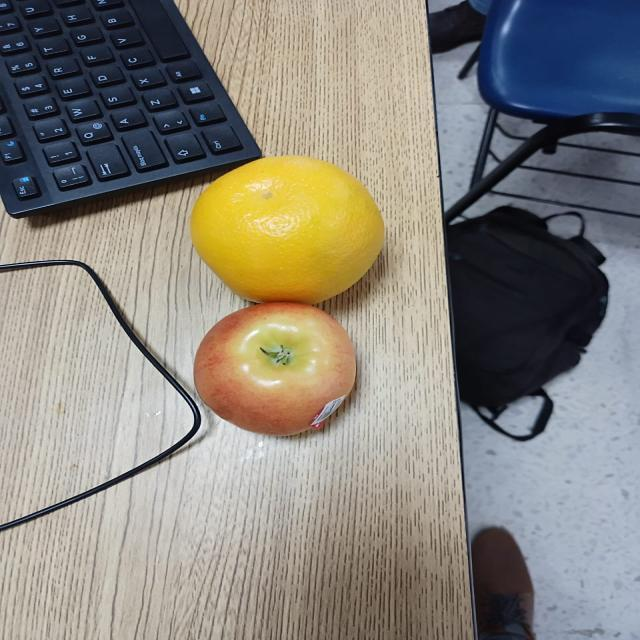Apel Gala: (192, 301, 362, 439)
Jeruk: (188, 150, 388, 304)
